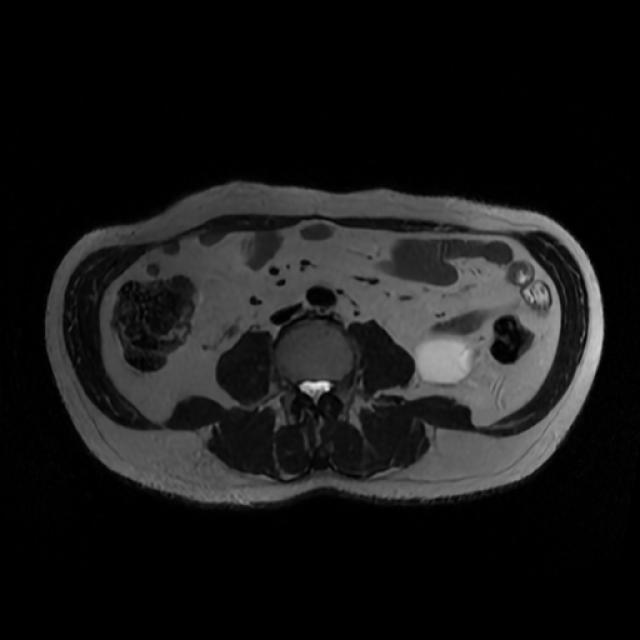sol: (418, 341, 473, 385)
